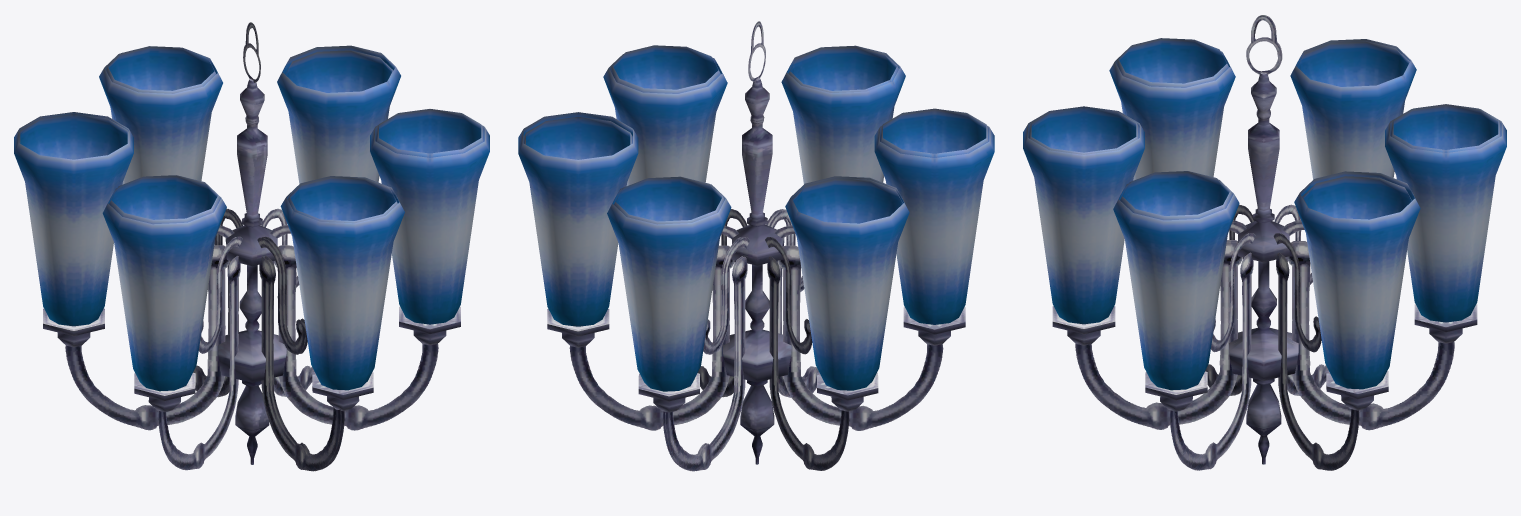
File: furni_0201102_03.FBX
The picture shows the model from 3 angles, left to right: view 1: azimuth 30°, elevation 25°; view 2: azimuth 150°, elevation 25°; view 3: azimuth 270°, elevation 25°; orthographic projection.
Visible parts, largest first — view 1: furni_0201102_03; view 2: furni_0201102_03; view 3: furni_0201102_03.
Boxes of the visible parts, x1,y1,x2,y2 form: furni_0201102_03: [14, 22, 489, 471]; furni_0201102_03: [518, 21, 994, 471]; furni_0201102_03: [1023, 15, 1506, 470].
Bounding box in the file's own units: 71.93 × 81.01 × 78.96.
1 material, 1 textured.
